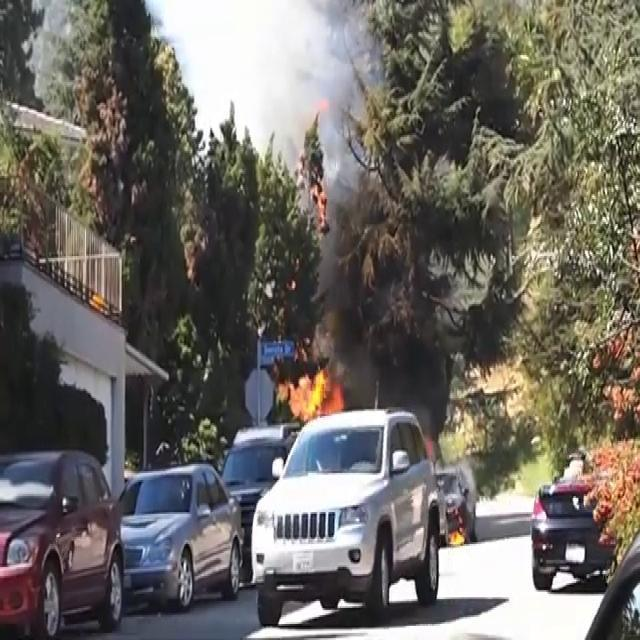Fire: (282, 359, 343, 425), (447, 522, 468, 546)
Smoke: (304, 12, 379, 370)
